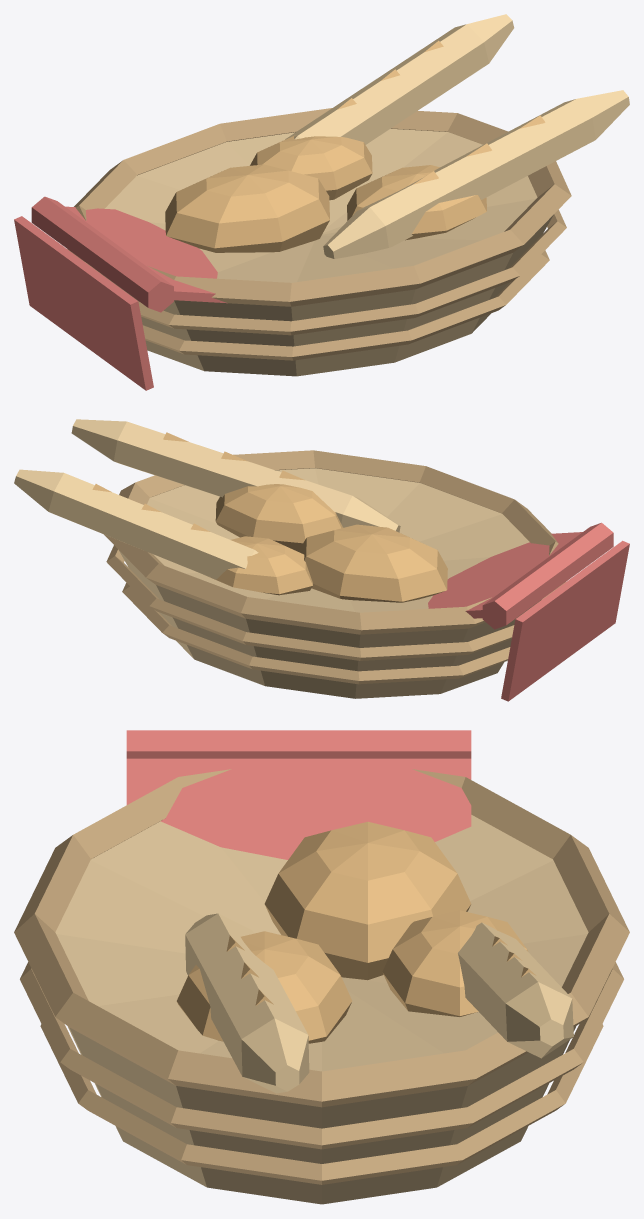
Rendered from Bread_Basket.glb.
3 views of the same model, one above another, from view 1: azimuth 30°, elevation 25°; view 2: azimuth 150°, elevation 25°; view 3: azimuth 270°, elevation 25° (orthographic). The views are drawn at different scales.
Parts seen in each view (by area): view 1: Bread_Basket; view 2: Bread_Basket; view 3: Bread_Basket.
Boxes of the visible parts, x1,y1,x2,y2 form: Bread_Basket: [14, 14, 629, 390]; Bread_Basket: [14, 419, 629, 701]; Bread_Basket: [14, 730, 629, 1204].
Size of the model in its own units: 0.818 by 0.2472 by 0.536.
